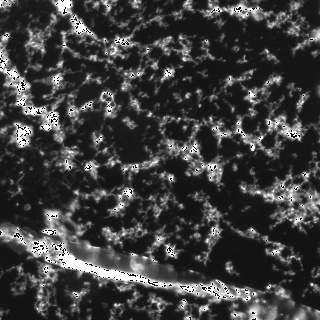embryo: (143, 264, 178, 286), (12, 226, 37, 254), (66, 242, 97, 263), (92, 249, 120, 270), (131, 258, 158, 279), (114, 254, 137, 274)
